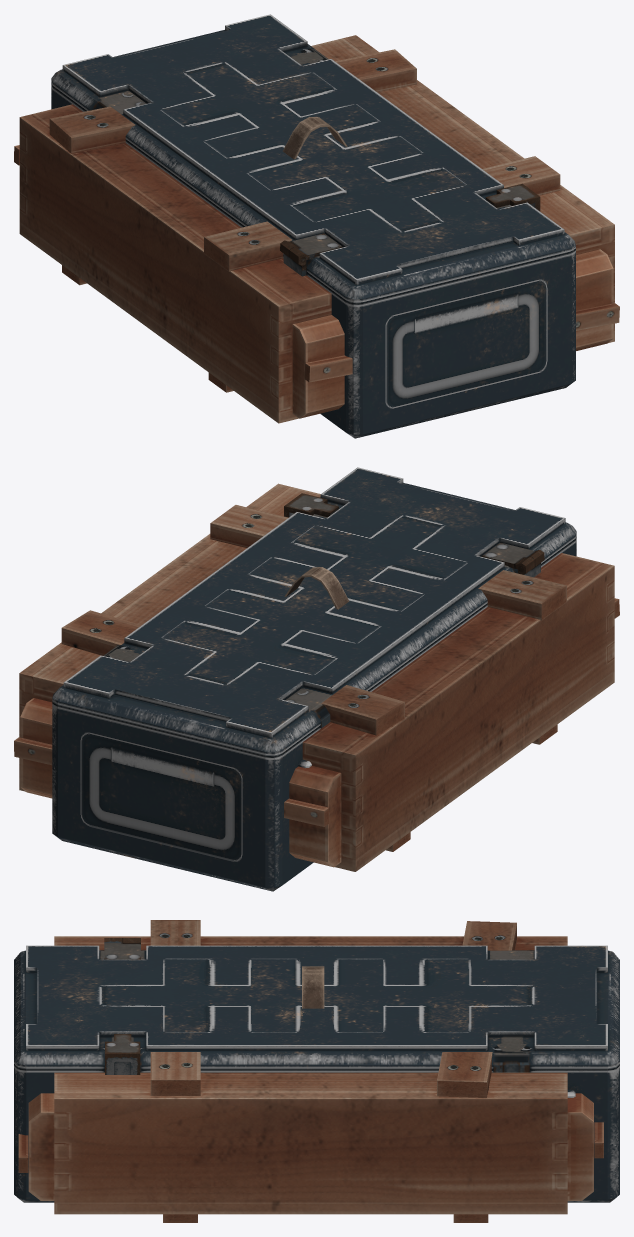
The model's file is ammo_boxes_01.fbx.
3 views of the same model, one above another, from view 1: azimuth 30°, elevation 25°; view 2: azimuth 150°, elevation 25°; view 3: azimuth 270°, elevation 25° (orthographic).
Parts seen in each view (by area): view 1: ammo_box_04, ammo_box_01, ammo_box_02; view 2: ammo_box_04, ammo_box_01, ammo_box_02; view 3: ammo_box_01, ammo_box_04, ammo_box_02.
Boxes of the visible parts, box(x1,y1,x2,y2) form: ammo_box_04: box(51, 14, 575, 438); ammo_box_01: box(14, 35, 619, 423); ammo_box_02: box(283, 117, 347, 159); ammo_box_04: box(52, 467, 576, 891); ammo_box_01: box(14, 483, 619, 871); ammo_box_02: box(284, 567, 349, 609); ammo_box_01: box(18, 920, 603, 1222); ammo_box_04: box(14, 938, 619, 1202); ammo_box_02: box(302, 966, 324, 1008).
Bounding box in the file's own units: 3.89 × 2.22 × 6.12.
